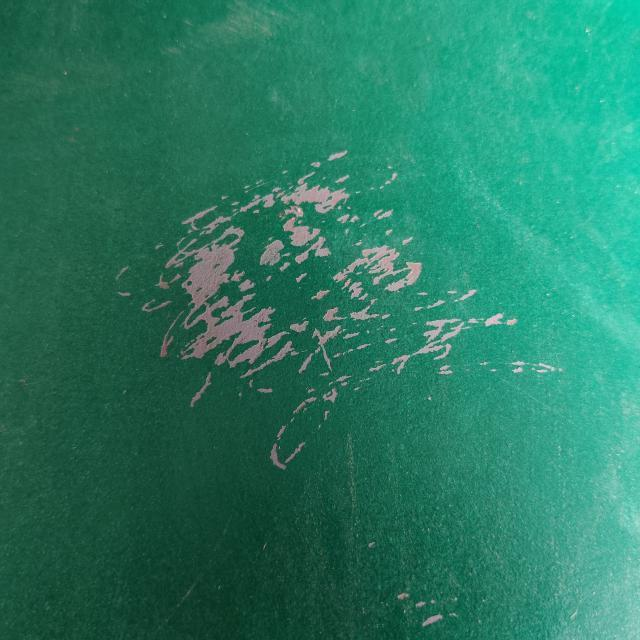Paint-off: (149, 150, 543, 475)
